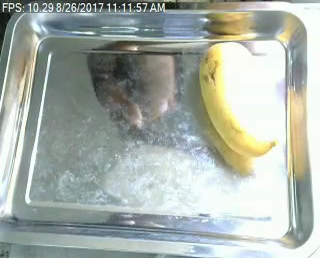Mango: (196, 40, 281, 159)
